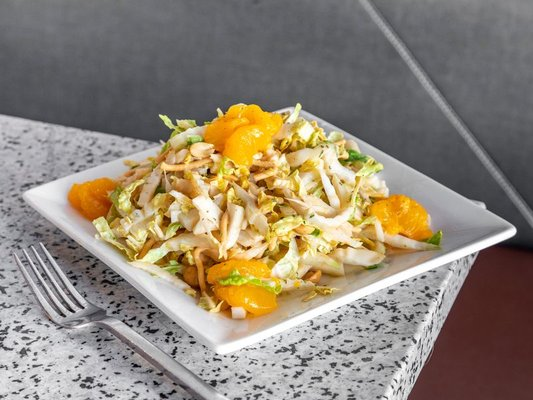burger: (13, 238, 234, 400)
